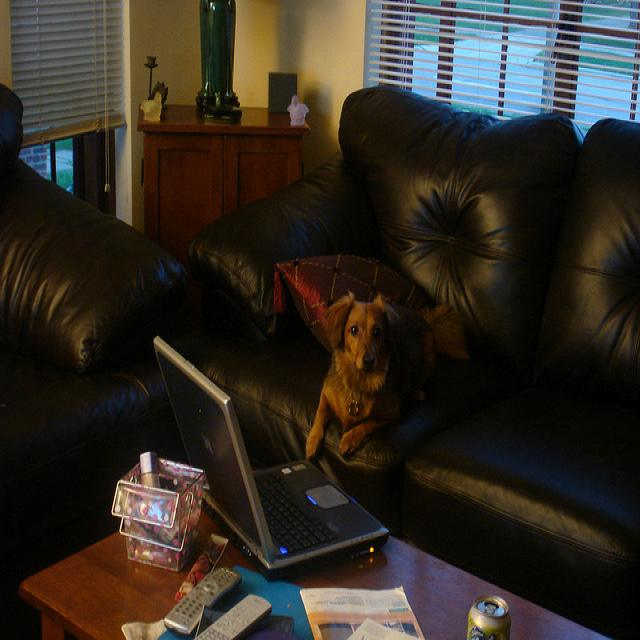Table: (0, 489, 640, 640), (147, 81, 301, 238)
chair: (210, 88, 640, 640), (0, 107, 164, 443)
dog: (305, 316, 421, 447)
